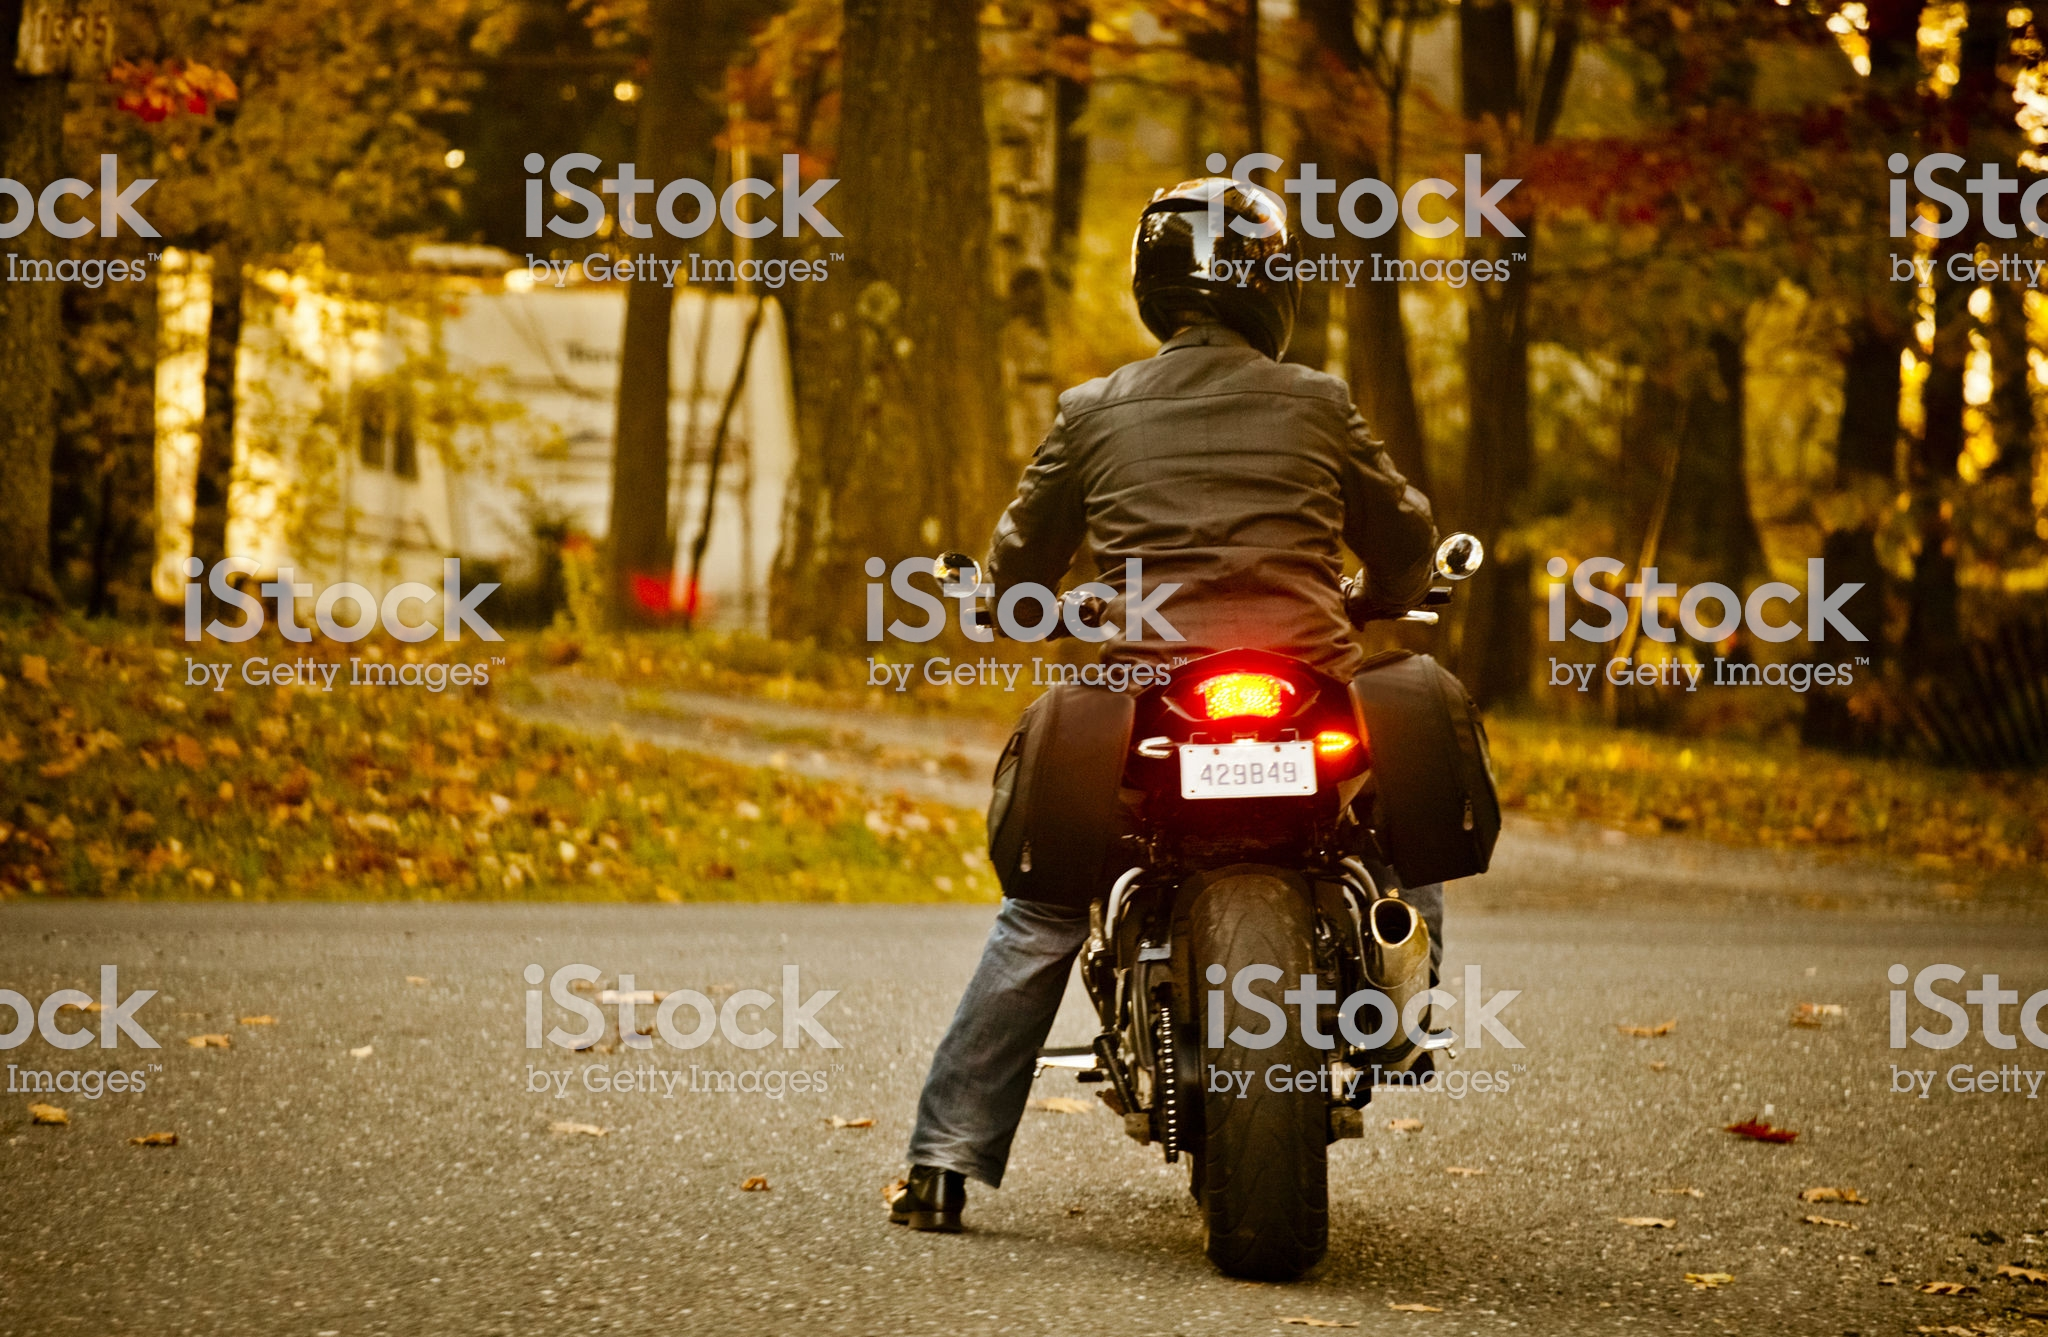helmet: (1123, 166, 1320, 337)
